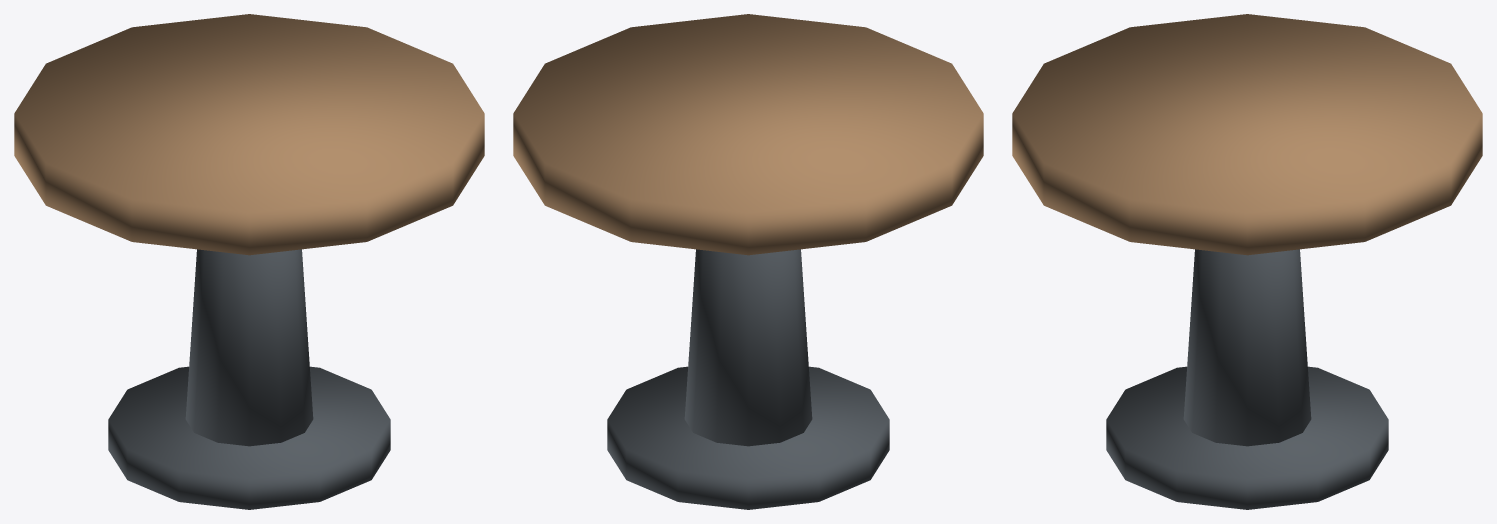
File: atelier-poolside-table.glb
3 views of the same model, side by side, from view 1: azimuth 30°, elevation 25°; view 2: azimuth 150°, elevation 25°; view 3: azimuth 270°, elevation 25° (orthographic).
Parts seen in each view (by area): view 1: legs.209, metal.182; view 2: legs.209, metal.182; view 3: legs.209, metal.182.
Boxes of the visible parts, x1,y1,x2,y2 form: legs.209: [14, 14, 484, 255]; metal.182: [108, 249, 390, 509]; legs.209: [513, 14, 983, 255]; metal.182: [607, 249, 889, 509]; legs.209: [1012, 14, 1482, 255]; metal.182: [1106, 249, 1388, 509].
Size of the model in its own units: 0.55 by 0.435 by 0.55.
